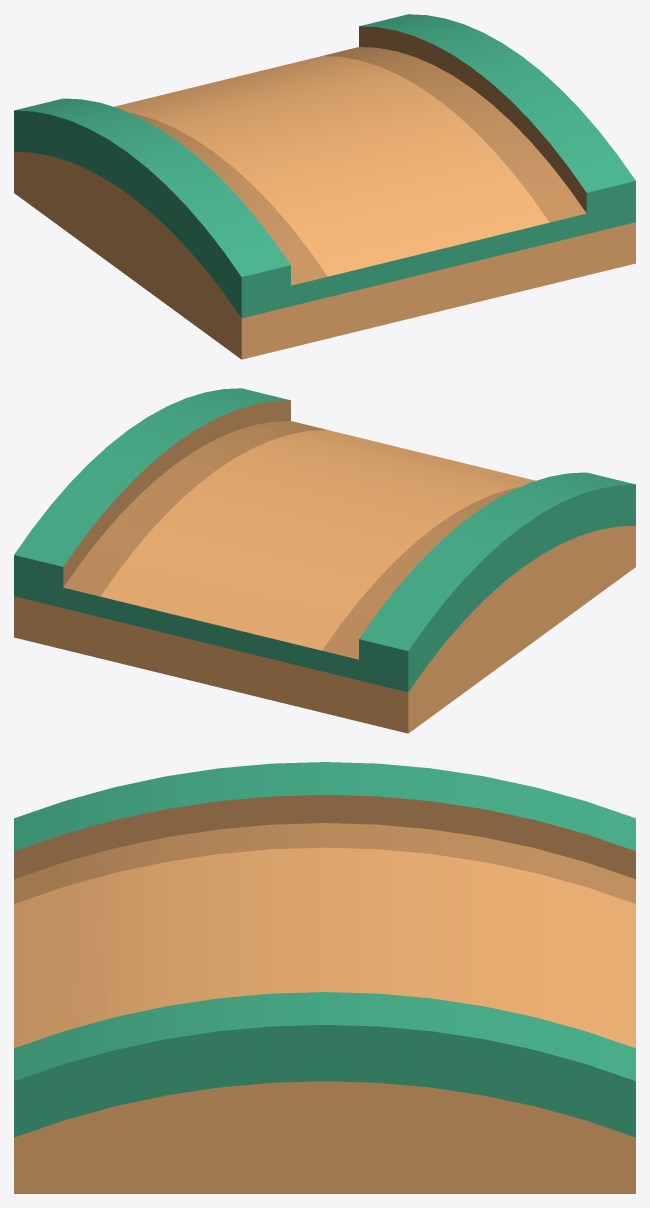
The model's file is tile_bump.dae.
3 renders of one model, top to bottom at view 1: azimuth 30°, elevation 25°; view 2: azimuth 150°, elevation 25°; view 3: azimuth 270°, elevation 25°, orthographic. The views are drawn at different scales.
Parts seen in each view (by area): view 1: tile_bump; view 2: tile_bump; view 3: tile_bump.
Boxes of the visible parts, x1,y1,x2,y2 form: tile_bump: (14, 14, 635, 359); tile_bump: (14, 388, 635, 733); tile_bump: (14, 762, 635, 1193).
Size of the model in its own units: 1 by 0.3 by 1.
